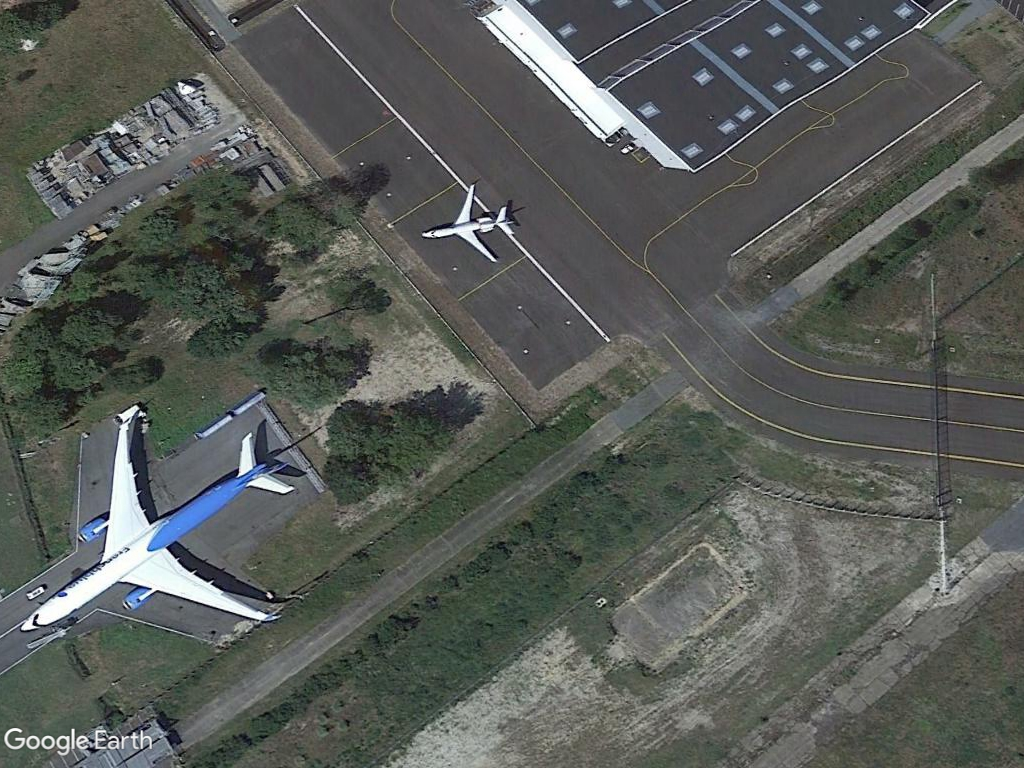airliner: (11, 422, 298, 634)
chartered: (416, 181, 524, 267)
